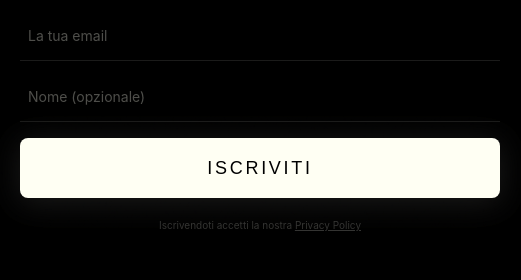
SubscribeForm › shows server error when API fails
Step 1. Type "test@example.com" into the field with placeholder "La tua email" → (260, 36), box [20,12,500,61]
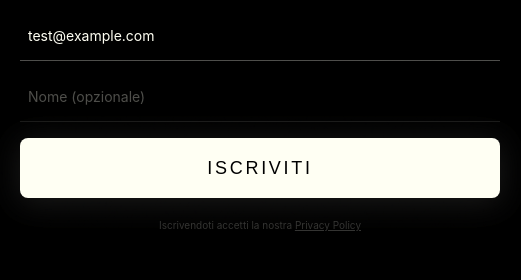
Step 2. Click the button "ISCRIVITI" → (260, 168), box [20,138,500,198]
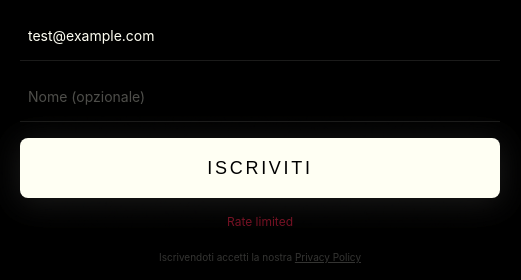
Check: the message reads "Rate limited", box [227,214,293,229]
